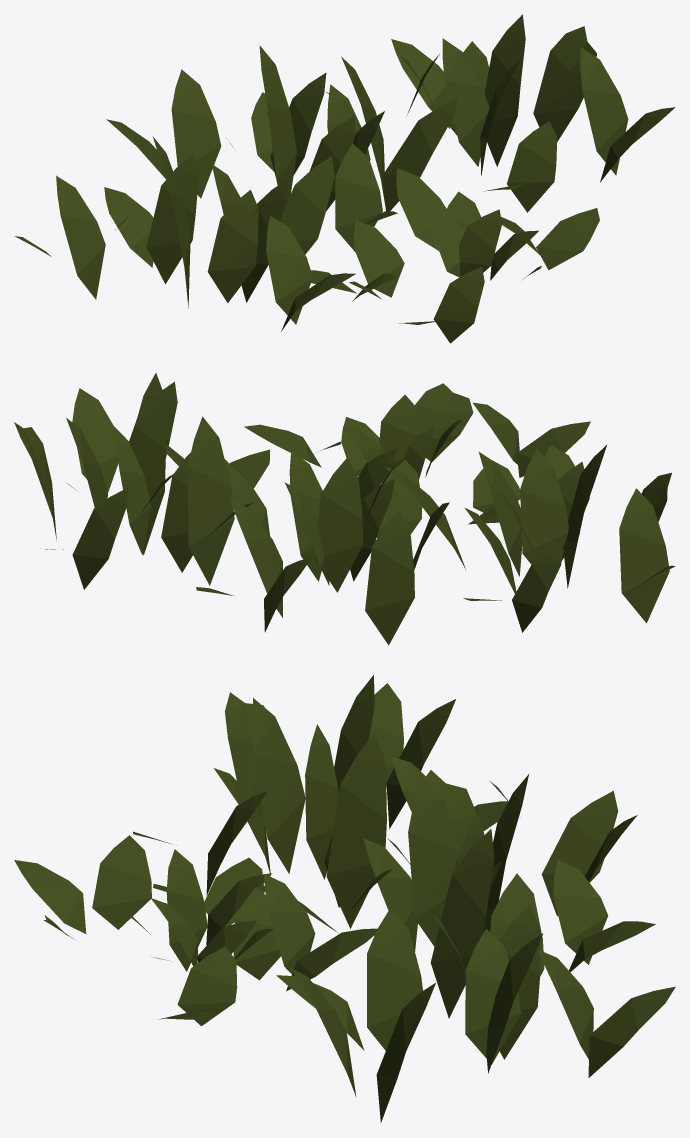
File: grass-thick-b.gltf
3 views of the same model, one above another, from view 1: azimuth 30°, elevation 25°; view 2: azimuth 150°, elevation 25°; view 3: azimuth 270°, elevation 25° (orthographic). The views are drawn at different scales.
Visible parts, largest first — view 1: grass-thick-b; view 2: grass-thick-b; view 3: grass-thick-b.
Boxes of the visible parts, bbox=[...] form: grass-thick-b: bbox=[14, 14, 675, 343]; grass-thick-b: bbox=[14, 373, 675, 645]; grass-thick-b: bbox=[14, 675, 675, 1122].
Bounding box in the file's own units: 0.0145 × 0.0037 × 0.0113.
